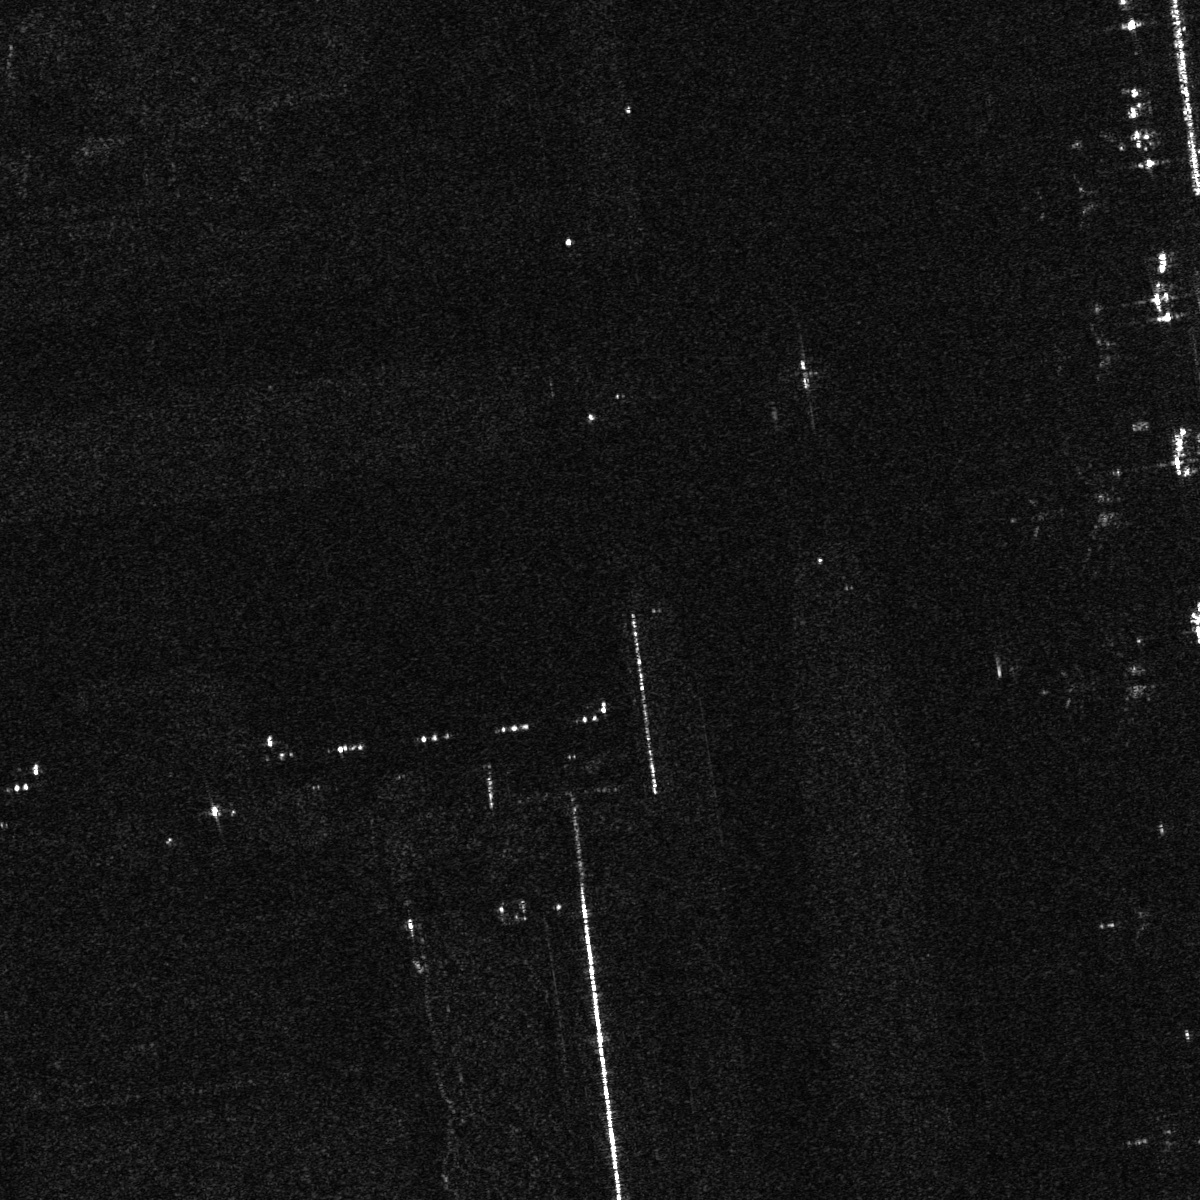Boeing787: (1010, 455, 1134, 574), (1056, 629, 1160, 740), (1033, 159, 1114, 229), (1054, 319, 1129, 380), (1092, 888, 1162, 947)
